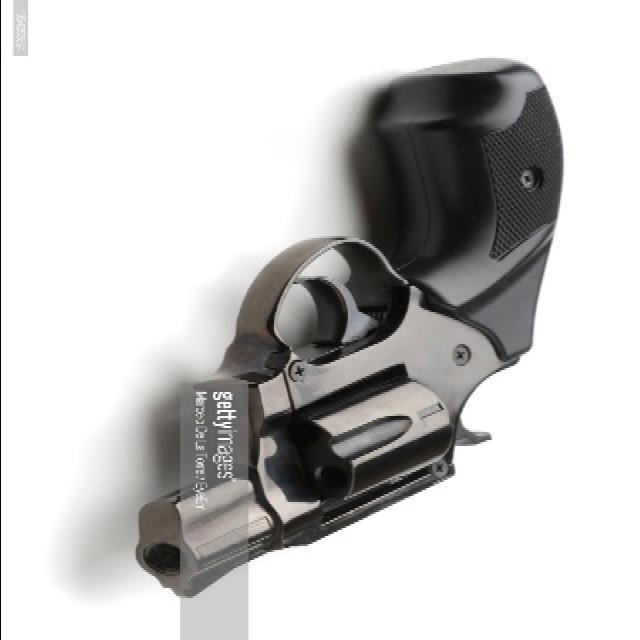handgun: (129, 45, 571, 605)
